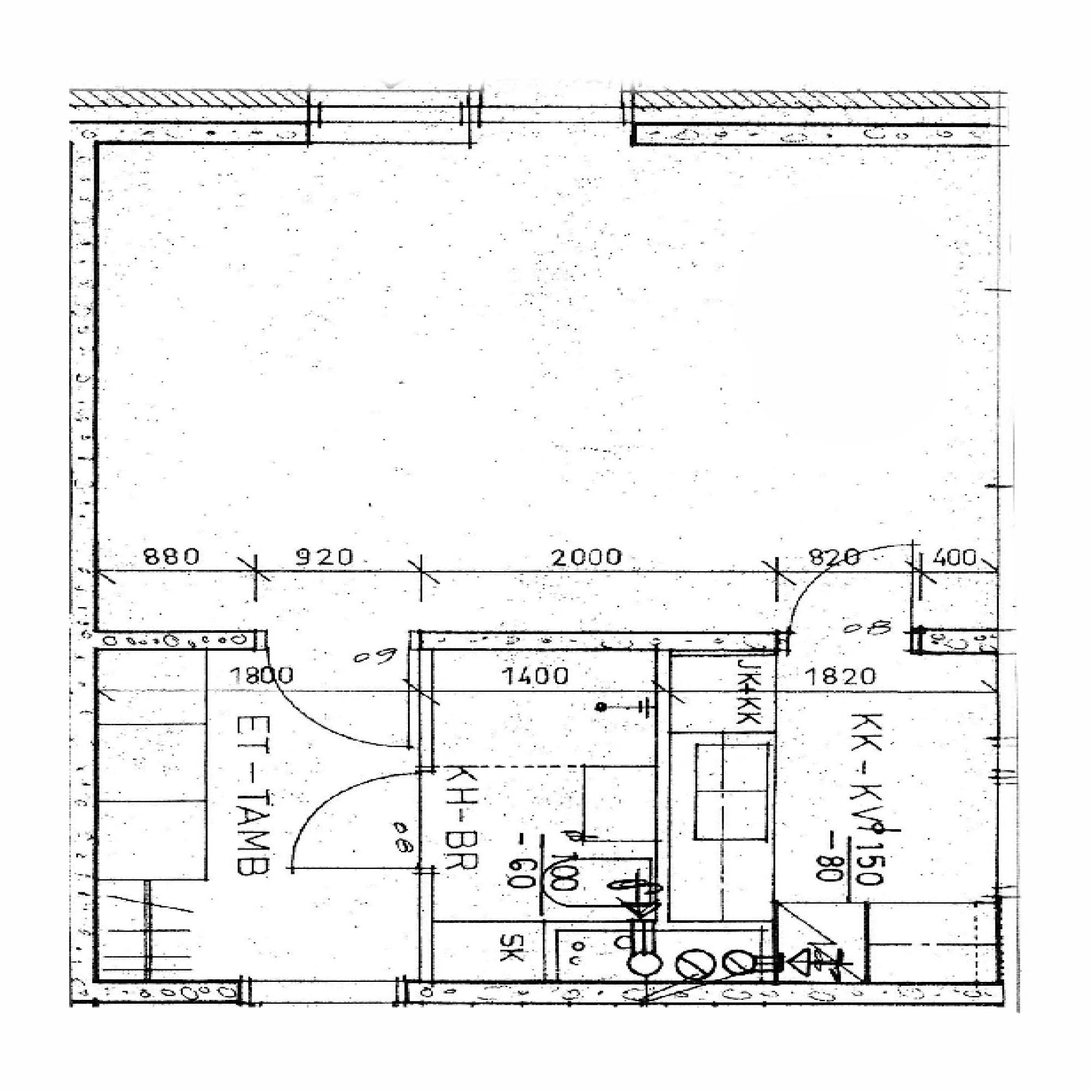wall: (70, 90, 998, 144), (70, 90, 97, 1002), (70, 981, 1019, 1002), (998, 90, 1019, 1002), (546, 920, 778, 1002), (70, 632, 1019, 651), (419, 631, 434, 1002), (654, 631, 671, 921)
